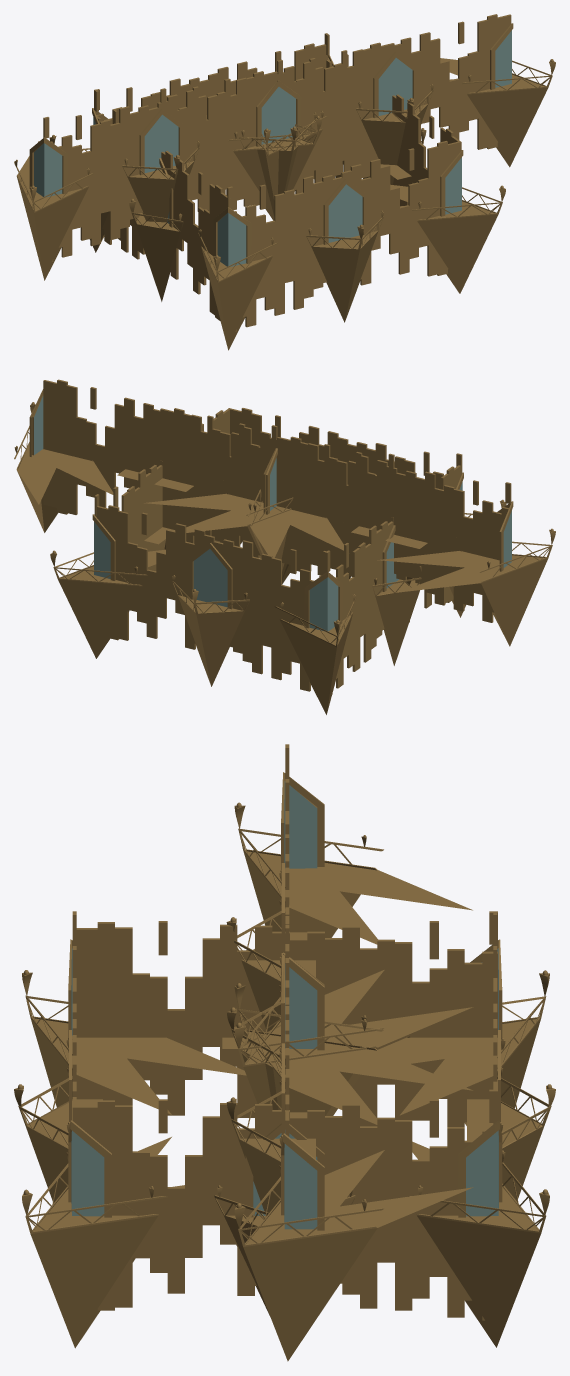
The model's file is Two.fbx.
The picture shows the model from 3 angles, top to bottom: view 1: azimuth 30°, elevation 25°; view 2: azimuth 150°, elevation 25°; view 3: azimuth 270°, elevation 25°; orthographic projection. The views are drawn at different scales.
Visible parts, largest first — view 1: Two_Whole, Two_Full, Two_Right, Two_Middle; view 2: Two_Whole, Two_Full, Two_Right, Two_Middle; view 3: Two_Whole, Two_Right, Two_Full, Two_Middle.
Boxes of the visible parts, x1,y1,x2,y2 form: Two_Whole: (49,33,505,350); Two_Full: (14,71,322,280); Two_Right: (261,14,555,199); Two_Middle: (160,42,394,215); Two_Whole: (50,408,506,714); Two_Full: (248,436,555,646); Two_Right: (14,379,293,571); Two_Middle: (160,408,394,579); Two_Whole: (14,911,555,1348); Two_Right: (226,924,473,1361); Two_Full: (226,744,473,1115); Two_Middle: (226,834,315,1109).
Bounding box in the file's own units: 4828 × 1868 × 2737.
